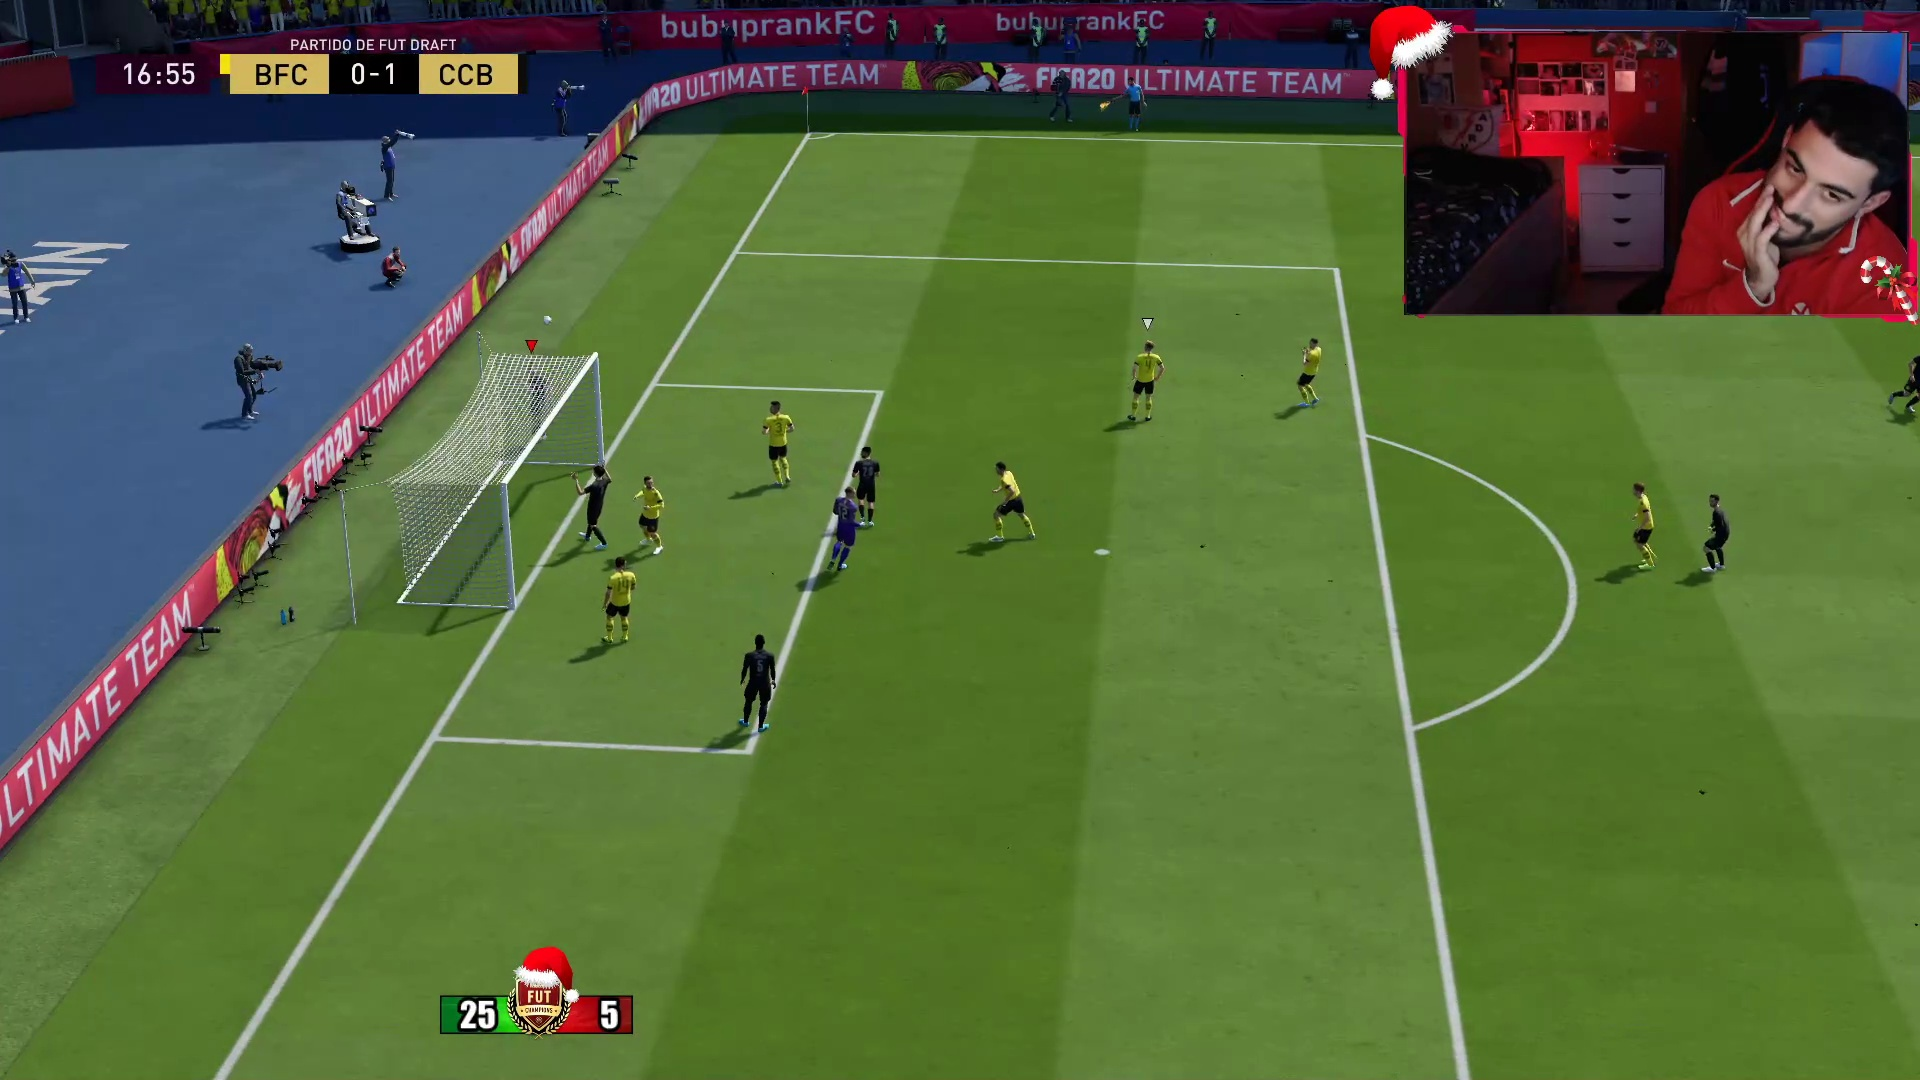player: (727, 628, 791, 746), (557, 454, 622, 553), (982, 454, 1041, 555), (627, 468, 678, 568), (1617, 471, 1663, 582), (753, 394, 805, 492), (1701, 485, 1744, 591), (597, 552, 641, 657), (515, 357, 562, 448), (1286, 331, 1330, 424), (1121, 338, 1163, 432), (822, 482, 858, 579), (848, 445, 889, 529), (1878, 352, 1920, 428)
